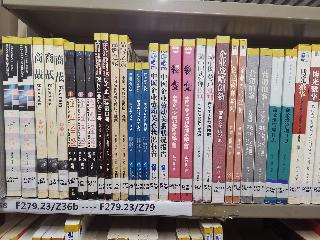book-spine: (286, 44, 312, 204), (273, 49, 298, 206), (15, 37, 37, 198), (1, 37, 23, 197), (251, 48, 273, 203), (38, 39, 59, 199), (211, 35, 230, 203), (302, 43, 320, 205), (241, 47, 259, 204), (265, 48, 283, 205), (179, 39, 196, 203), (52, 38, 68, 199), (224, 38, 239, 203), (232, 39, 247, 204), (202, 39, 217, 203), (32, 37, 47, 199), (83, 45, 98, 201), (168, 38, 182, 203), (109, 35, 122, 201), (193, 38, 206, 202), (74, 44, 87, 200), (100, 32, 112, 201), (64, 43, 76, 199), (94, 33, 105, 200), (118, 35, 129, 201), (148, 43, 159, 201), (158, 44, 169, 201), (133, 63, 143, 202), (141, 62, 150, 202), (127, 62, 136, 201)
